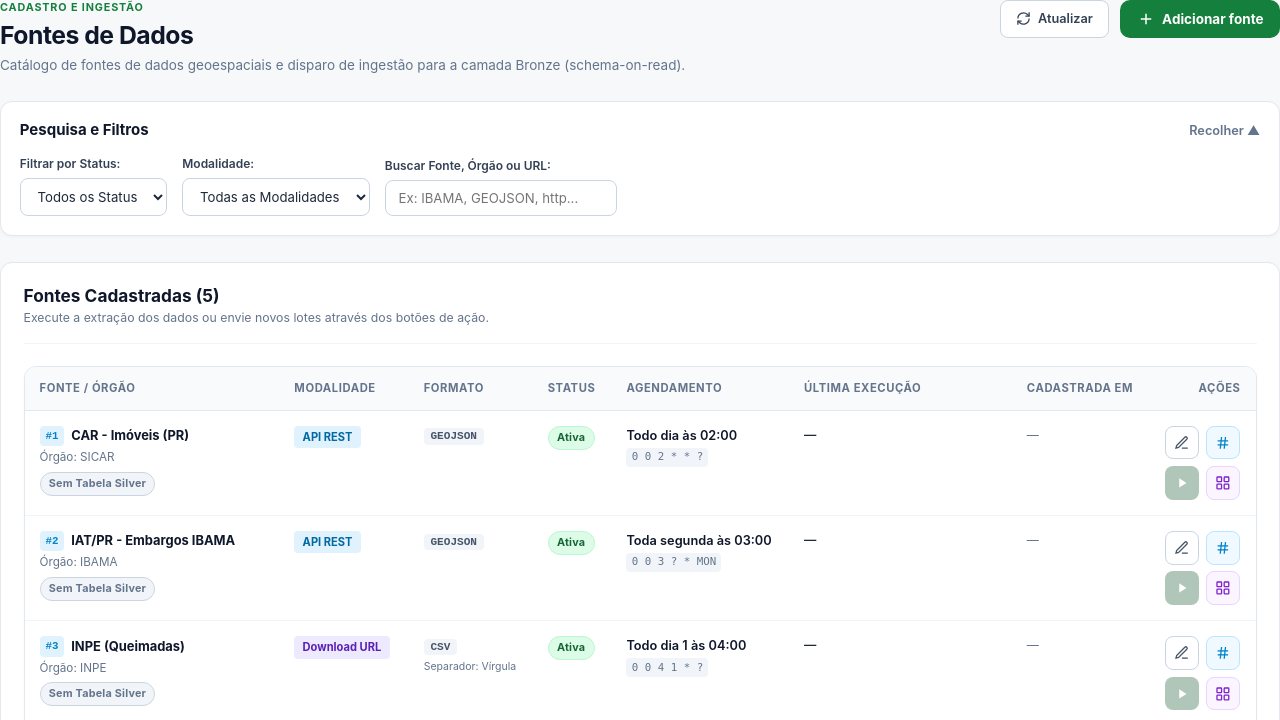
Test case: CadastroFontes — modal de cadastro/edição › abre o modal de cadastro pelo botão Adicionar fonte
The image size is (1280, 720).
Click the button with class "btn-adicionar-fonte". click: (1200,19)
box: [1120,0,1279,38]
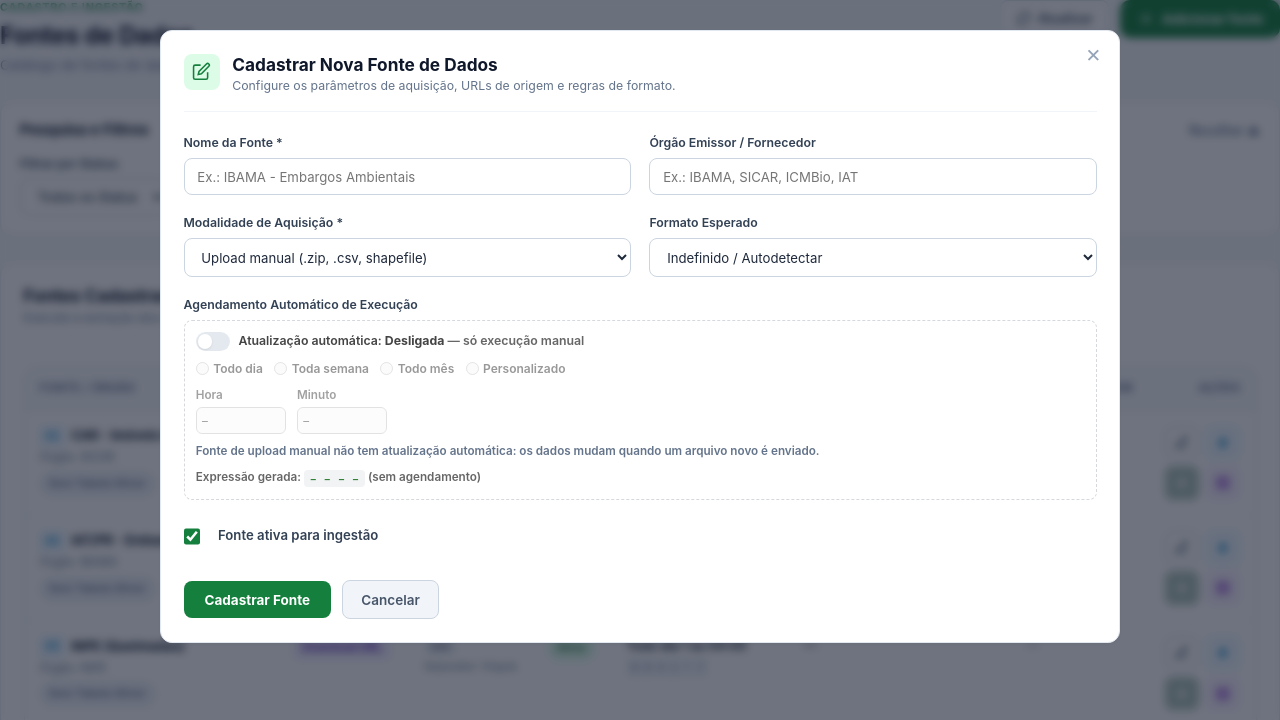
Expected: the element with class "modal-backdrop" is shown
Expected: the element with class "modal-dialog" shows "Cadastrar Nova Fonte de Dados", [232,54,498,74]
